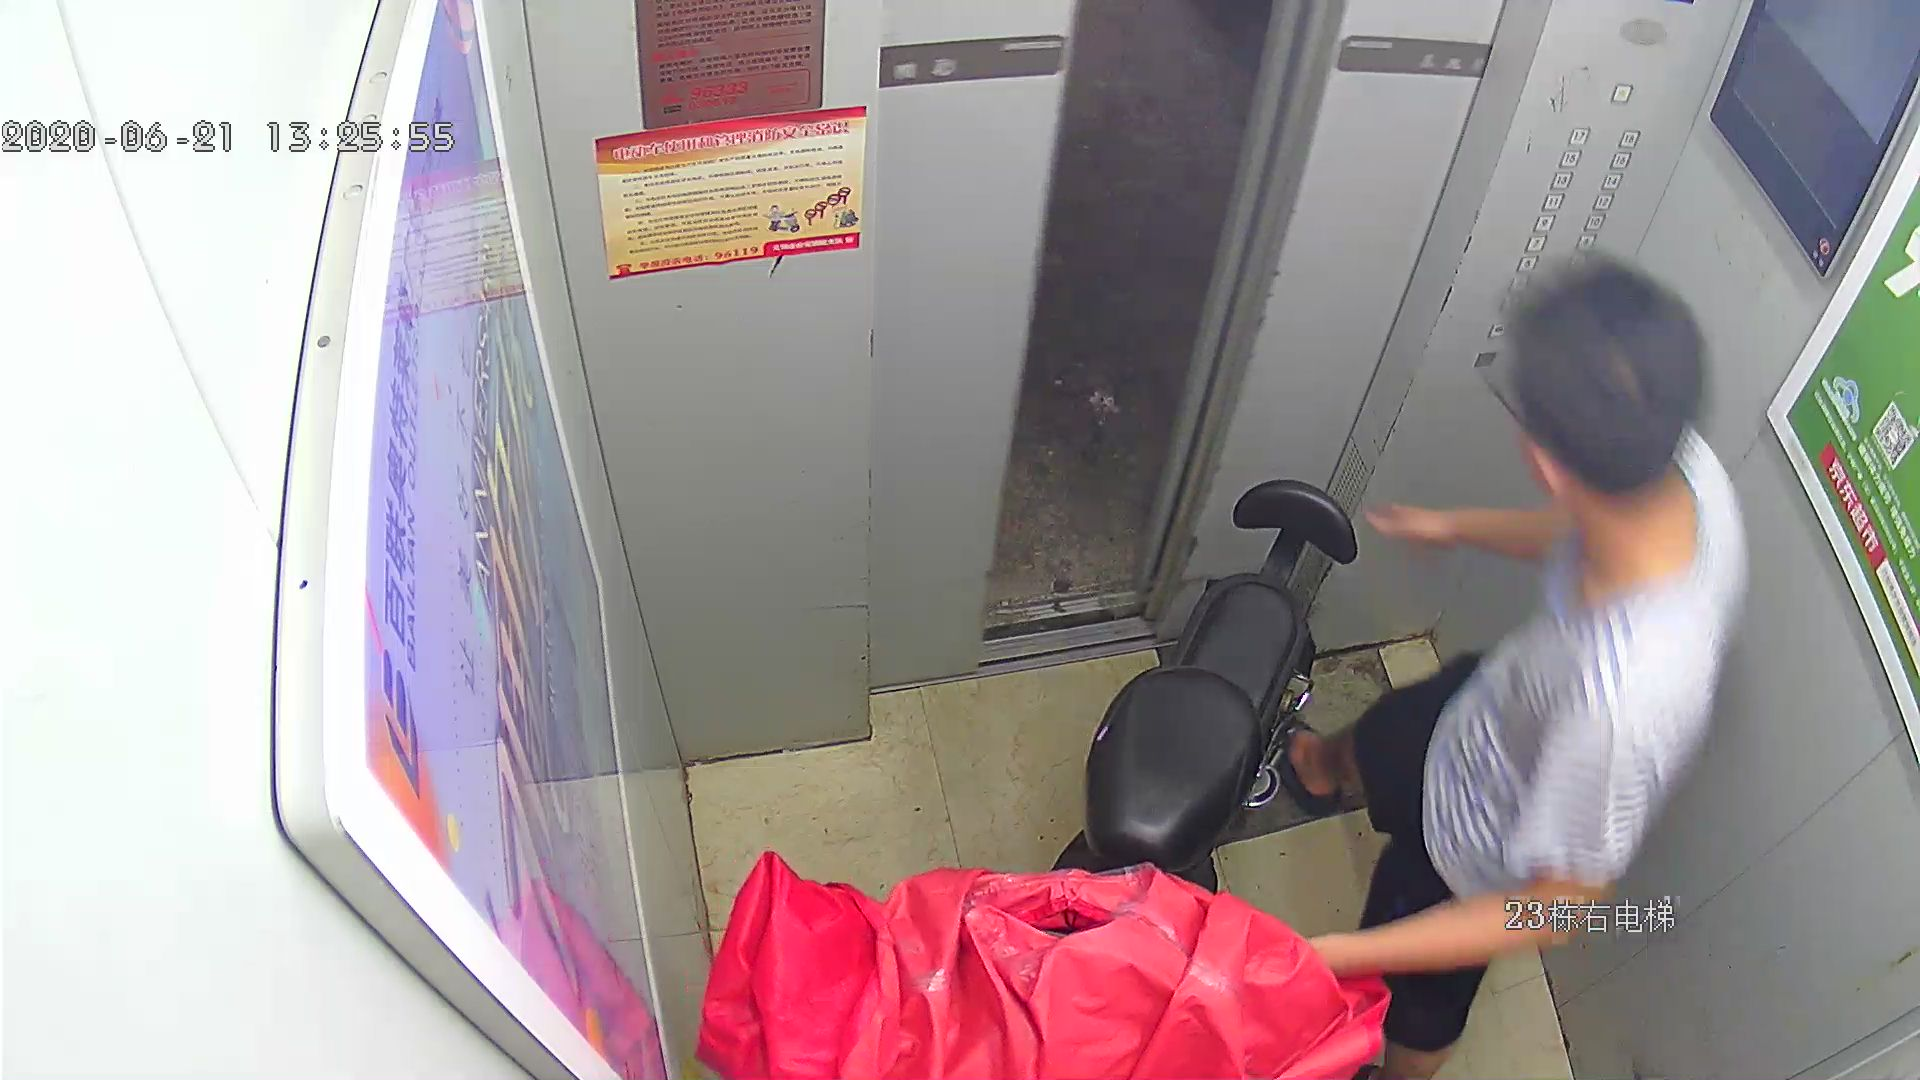Electric-bicycle: (758, 464, 1357, 1080)
